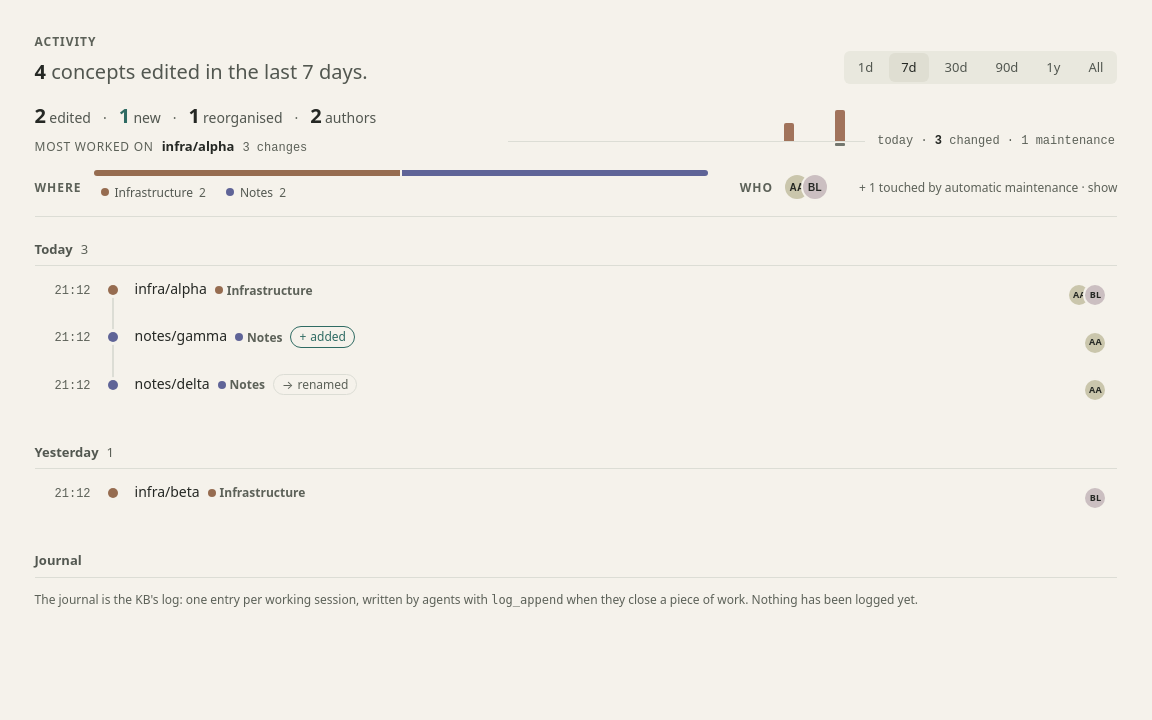
Scenario: the Activity summary › keeps the maintenance toggle at the end, and it brings the touched concepts into the timeline
What coordinates should you click on to do the following:
click the button "+ 1 touched by automatic maintenance · show"
I would click on:
 (988, 187)
Its box is [859,178,1118,197].
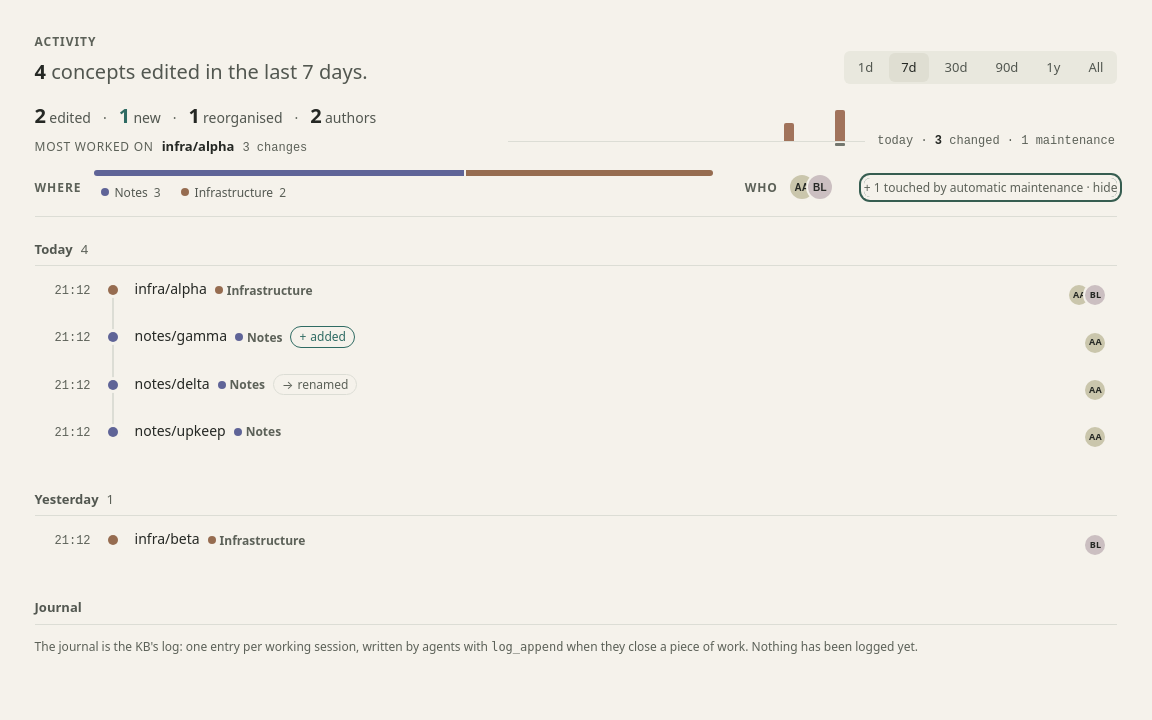
Expected: the button named "+ 1 touched by automatic maintenance · show" reads "+ 1 touched by automatic maintenance · hide", [864,178,1117,197]
